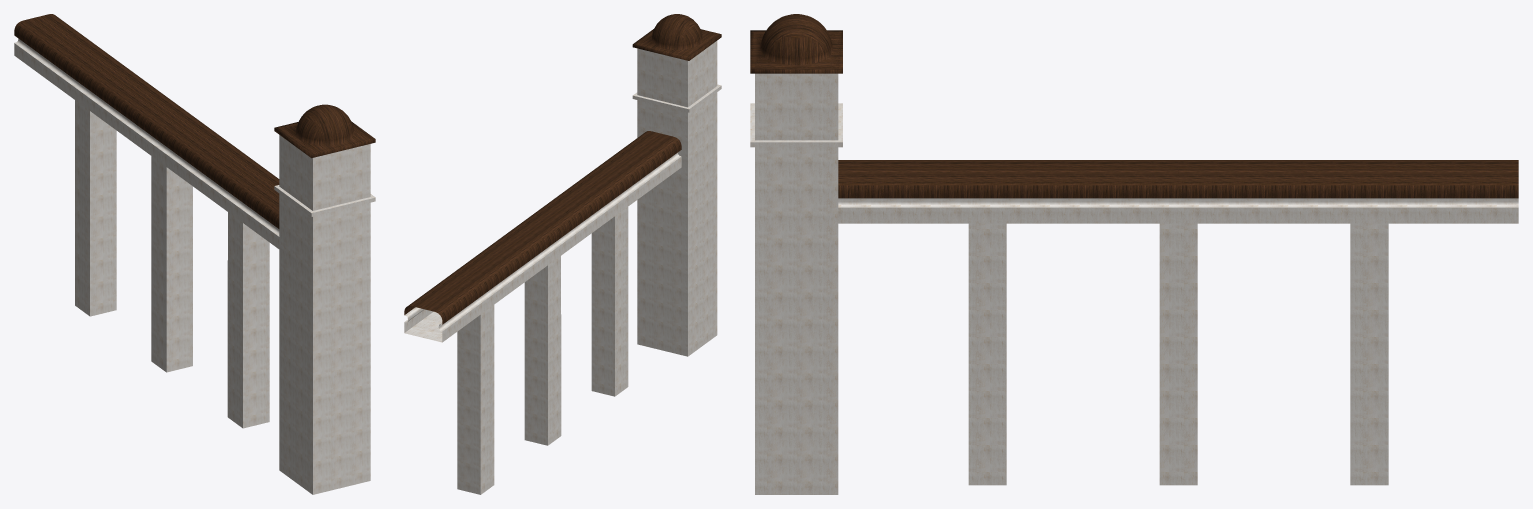
Rendered from Bannster with Pole.fbx.
The picture shows the model from 3 angles, left to right: view 1: azimuth 30°, elevation 25°; view 2: azimuth 150°, elevation 25°; view 3: azimuth 270°, elevation 25°; orthographic projection. The views are drawn at different scales.
Visible parts, largest first — view 1: Object001; view 2: Object001; view 3: Object001.
Boxes of the visible parts, x1=… form: Object001: x1=14, y1=14, x2=375, y2=494; Object001: x1=404, y1=14, x2=721, y2=494; Object001: x1=750, y1=14, x2=1518, y2=494.
Size of the model in its own units: 24.27 by 133 by 201.
Materials: 3 (2 with a texture image).
